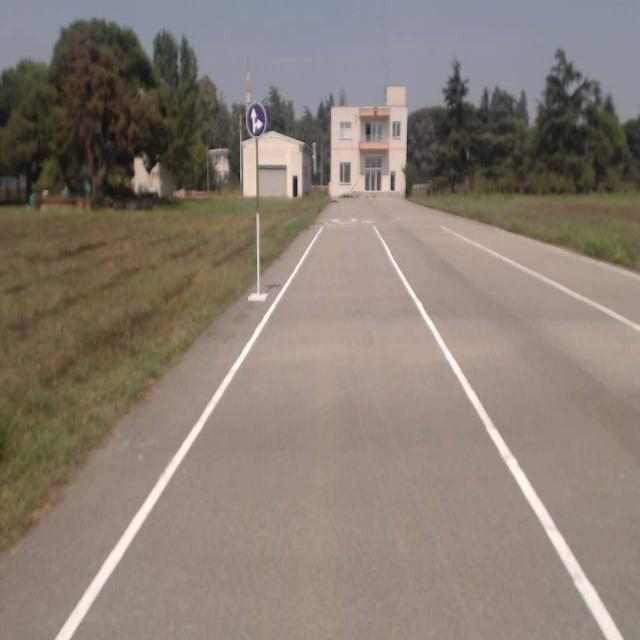ilerisag: (246, 103, 266, 138)
